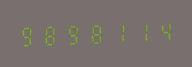eight: (39, 21, 60, 48), (83, 20, 104, 46)
four: (149, 18, 170, 44)
nine: (17, 22, 38, 48), (61, 21, 82, 47)
one: (127, 18, 148, 45), (105, 19, 126, 45)
